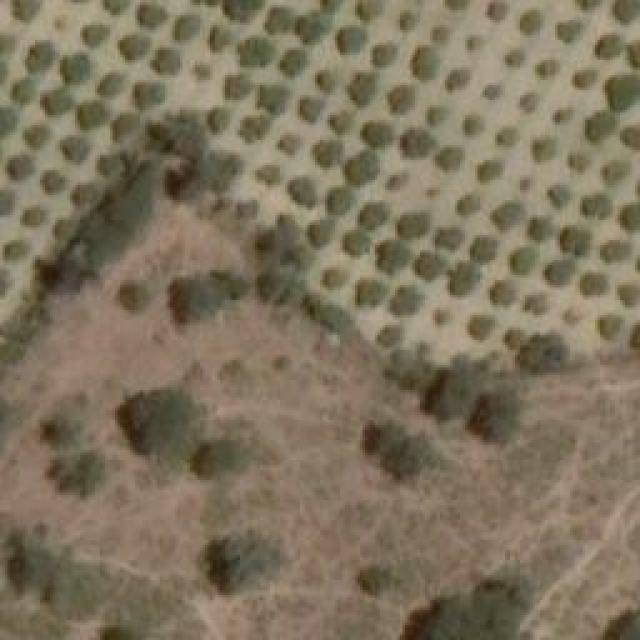Tree: (407, 567, 532, 640), (120, 390, 203, 458), (208, 532, 271, 590), (33, 248, 94, 305), (8, 530, 58, 598), (423, 365, 478, 420), (38, 395, 91, 445), (473, 388, 518, 443), (193, 440, 248, 480), (50, 453, 105, 493), (258, 268, 308, 311), (388, 440, 441, 480), (168, 278, 213, 323), (517, 333, 565, 373), (363, 418, 408, 458), (353, 560, 398, 598), (163, 163, 202, 202), (235, 35, 273, 68), (295, 13, 333, 43), (342, 153, 380, 183), (608, 75, 638, 110), (410, 45, 440, 80), (400, 128, 435, 158), (198, 158, 238, 183), (345, 73, 375, 106), (288, 175, 318, 208), (378, 243, 411, 273), (115, 280, 148, 310), (390, 285, 425, 313), (542, 260, 580, 285), (313, 140, 346, 168), (493, 202, 526, 230), (450, 263, 480, 293), (560, 225, 590, 255), (580, 192, 610, 220), (265, 7, 295, 35), (335, 28, 368, 53), (360, 120, 393, 145), (258, 85, 291, 110), (280, 50, 308, 78), (387, 85, 415, 113), (327, 187, 355, 215), (225, 0, 263, 20), (617, 607, 640, 640), (415, 253, 445, 278), (398, 213, 428, 238), (358, 203, 388, 228), (355, 280, 385, 305), (152, 48, 180, 73), (28, 42, 53, 70), (65, 55, 90, 83), (135, 83, 163, 108), (110, 115, 138, 140), (77, 103, 105, 128), (580, 273, 610, 296), (468, 315, 498, 338), (598, 243, 631, 263), (587, 115, 615, 138), (602, 160, 630, 183), (435, 148, 463, 171), (297, 98, 325, 121), (120, 35, 148, 58), (225, 73, 250, 98), (43, 90, 73, 110), (612, 0, 639, 22), (617, 205, 640, 230), (478, 160, 503, 183), (598, 315, 623, 338), (330, 110, 355, 133), (208, 108, 233, 131), (513, 248, 536, 273), (555, 20, 580, 43), (140, 3, 165, 26), (13, 78, 36, 103), (235, 198, 258, 223), (355, 0, 383, 20), (240, 118, 268, 138), (598, 35, 621, 58), (373, 43, 396, 66), (345, 233, 368, 256), (528, 218, 551, 241), (10, 155, 33, 178), (435, 230, 463, 248), (12, 0, 40, 18), (490, 283, 515, 303), (523, 293, 548, 313), (445, 70, 470, 90), (258, 165, 283, 185), (473, 240, 498, 260), (313, 220, 333, 245), (175, 18, 200, 38), (210, 25, 230, 50), (98, 75, 123, 95), (63, 138, 88, 158), (533, 138, 556, 158), (617, 285, 640, 305), (318, 70, 338, 93), (455, 195, 478, 215), (520, 13, 540, 36), (25, 125, 48, 145), (43, 170, 66, 190), (495, 127, 520, 145), (378, 327, 403, 345), (323, 267, 348, 285), (83, 25, 108, 43), (550, 185, 568, 208), (535, 60, 558, 78), (278, 135, 301, 153), (485, 0, 505, 20), (428, 105, 448, 125), (5, 243, 30, 258), (578, 0, 604, 14), (622, 128, 640, 148), (518, 92, 538, 110), (575, 70, 595, 88), (463, 117, 483, 135), (75, 187, 95, 205), (98, 157, 118, 175), (568, 153, 591, 168), (23, 208, 46, 223), (505, 327, 523, 345), (400, 10, 418, 28), (553, 108, 573, 123), (433, 310, 453, 325), (0, 110, 15, 130), (505, 50, 523, 65), (192, 63, 210, 78), (468, 35, 483, 50), (433, 28, 448, 43), (388, 173, 403, 188)
